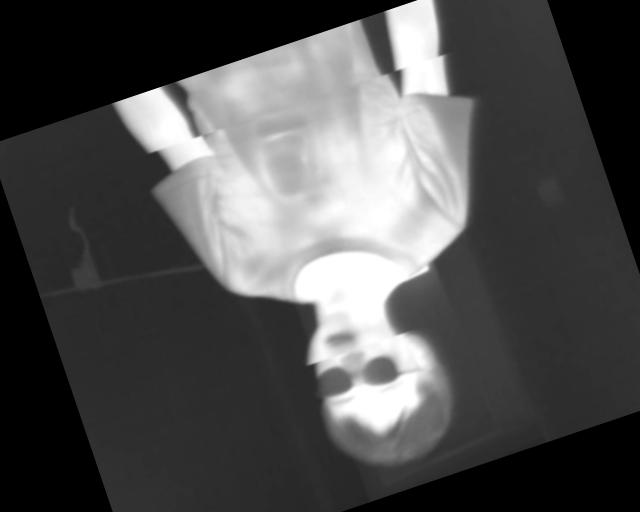face: (287, 284, 471, 487)
